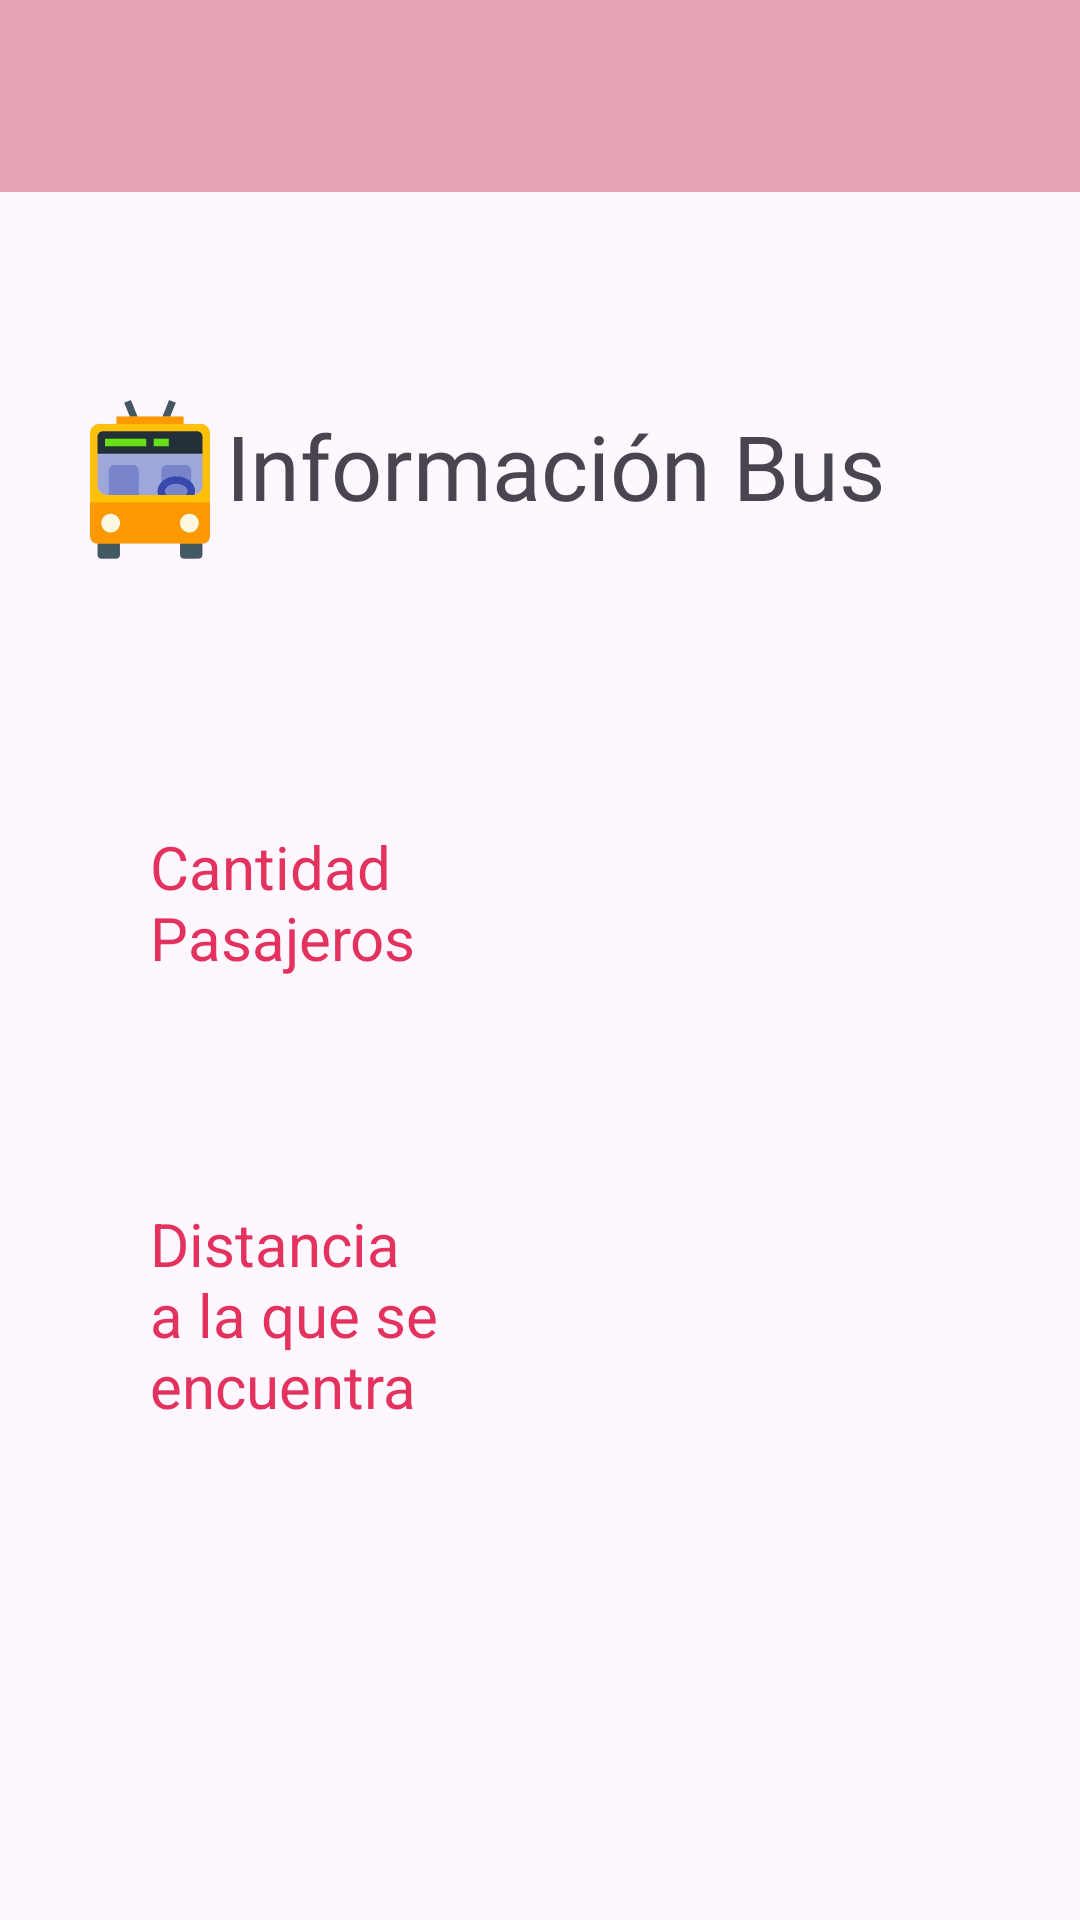

Icons on this 1080 x 1920 Android screen, each with the point to tap as (x=x, y=y):
iconobus: (x=165, y=479)
